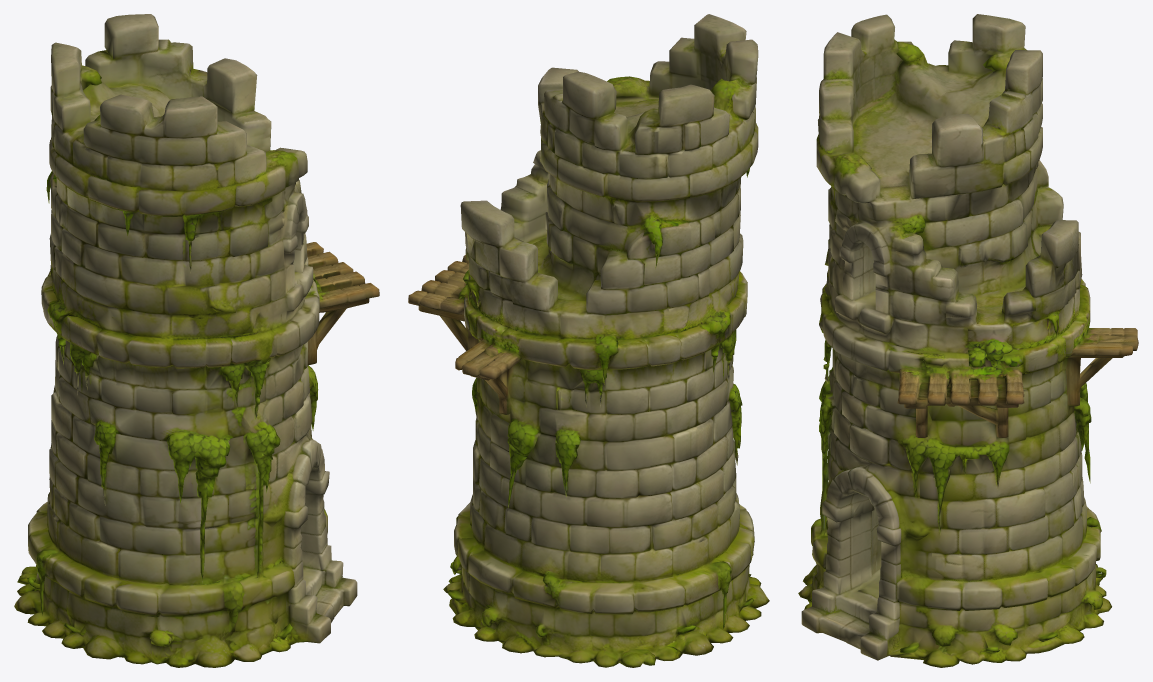
The model's file is watchtower_ruins.glb.
3 views of the same model, side by side, from view 1: azimuth 30°, elevation 25°; view 2: azimuth 150°, elevation 25°; view 3: azimuth 270°, elevation 25° (orthographic). The views are drawn at different scales.
Visible parts, largest first — view 1: tripo_node_94681eda-66bd-4785-9dac-a1583fb97d61; view 2: tripo_node_94681eda-66bd-4785-9dac-a1583fb97d61; view 3: tripo_node_94681eda-66bd-4785-9dac-a1583fb97d61.
Part boxes in pixels (x1=…): tripo_node_94681eda-66bd-4785-9dac-a1583fb97d61: x1=14, y1=14, x2=379, y2=667; tripo_node_94681eda-66bd-4785-9dac-a1583fb97d61: x1=408, y1=14, x2=769, y2=667; tripo_node_94681eda-66bd-4785-9dac-a1583fb97d61: x1=798, y1=14, x2=1138, y2=667.
Size of the model in its own units: 0.5692 by 0.9793 by 0.5653.
1 material, 1 textured.
